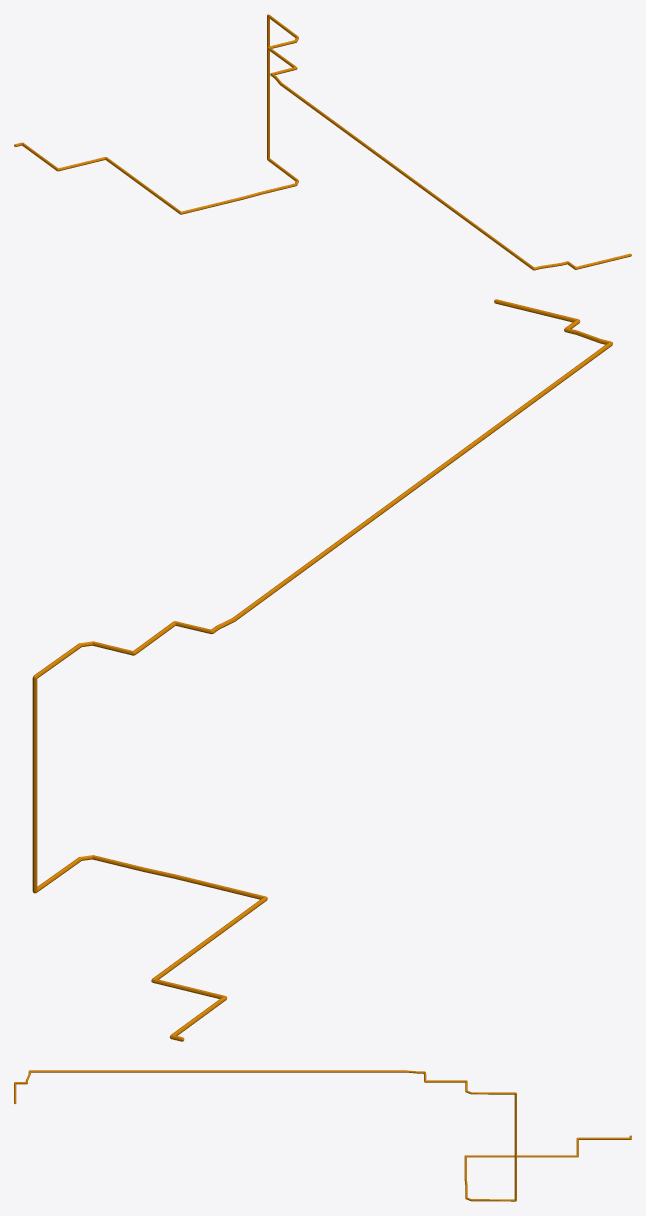
3 renders of one model, top to bottom at view 1: azimuth 30°, elevation 25°; view 2: azimuth 150°, elevation 25°; view 3: azimuth 270°, elevation 25°, orthographic. The views are drawn at different scales.
Size of the model in its own units: 1496 by 1020 by 5241.
